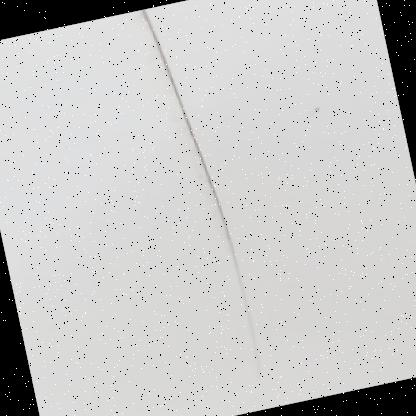Crack: (92, 0, 312, 405)
